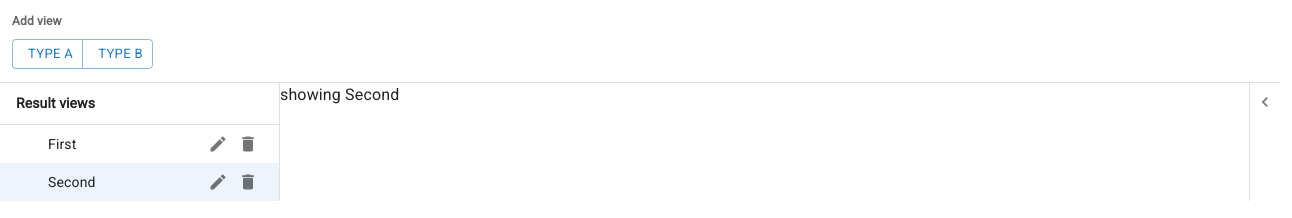
ResultsWorkspace › shows the selected view; its properties open and close (collapsed on narrow screens)
This screenshot has width=1292, height=218.
Expected: the text "showing Second" is shown, [280,85,399,104]
Expected: the text "props of Second" is not shown
Click the button named "Show the properties".
click(1265, 102)  # box [1250,87,1280,117]
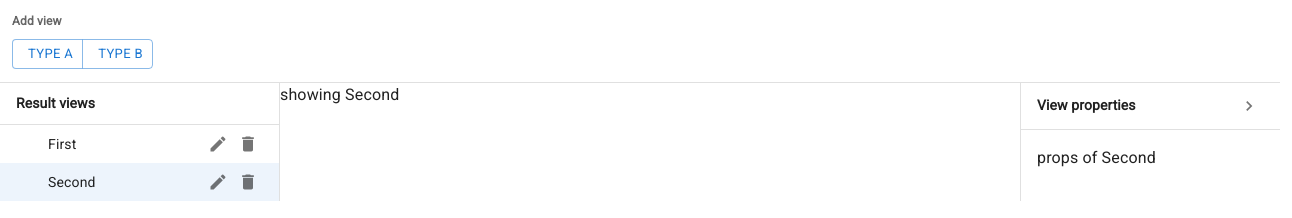
Now the text "props of Second" is shown, box [1037,148,1156,167]
Click the button named "Hide the properties".
click(1249, 106)  # box [1234,91,1264,121]
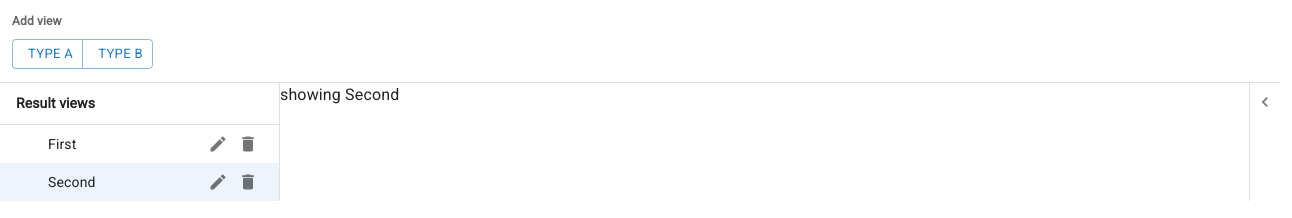
Now the text "props of Second" is gone
